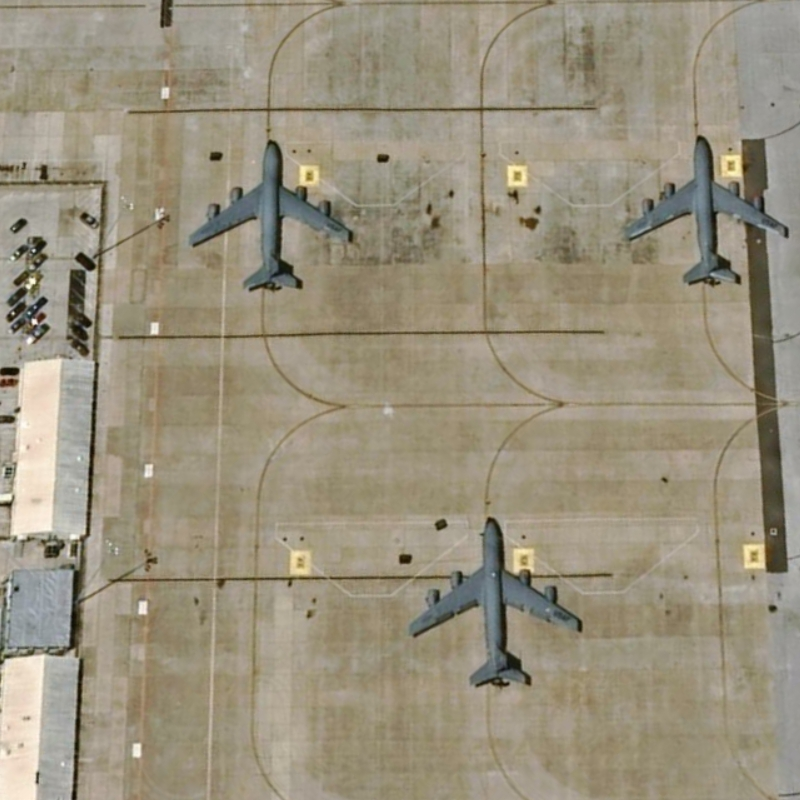A14: (404, 514, 586, 689), (185, 136, 355, 295), (622, 132, 792, 289)
